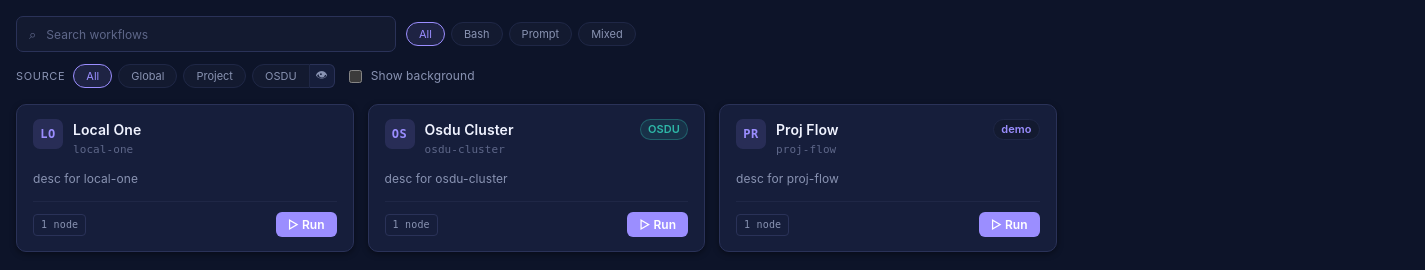
WorkflowList — provenance filtering › 'Show background' reveals producer workflows
Click the text "Show background" at (410, 76), box [345,67,475,86]
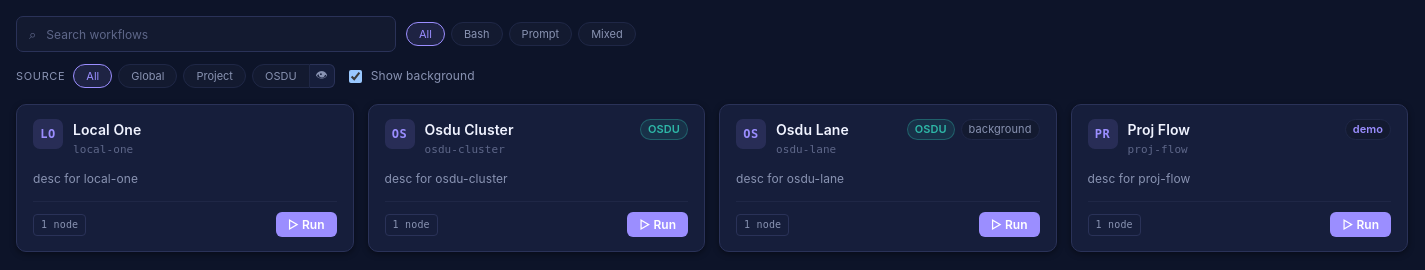
Expected: the text "osdu-lane" is shown, [776,143,836,156]
